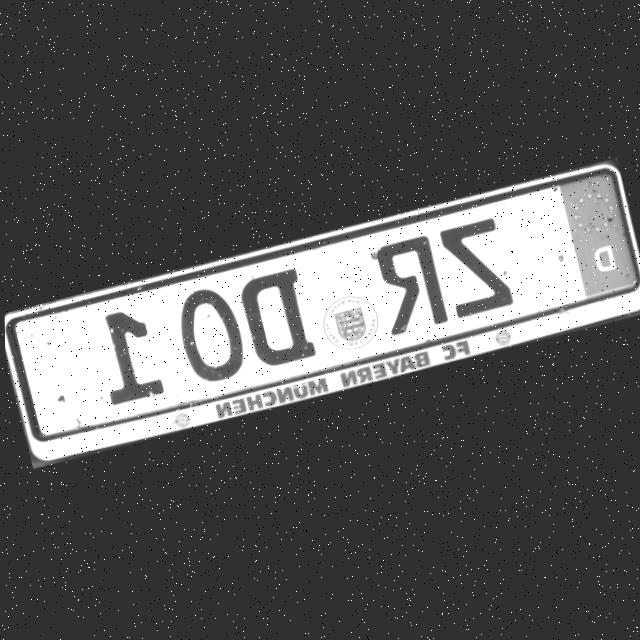license-plates: (5, 169, 639, 443)
